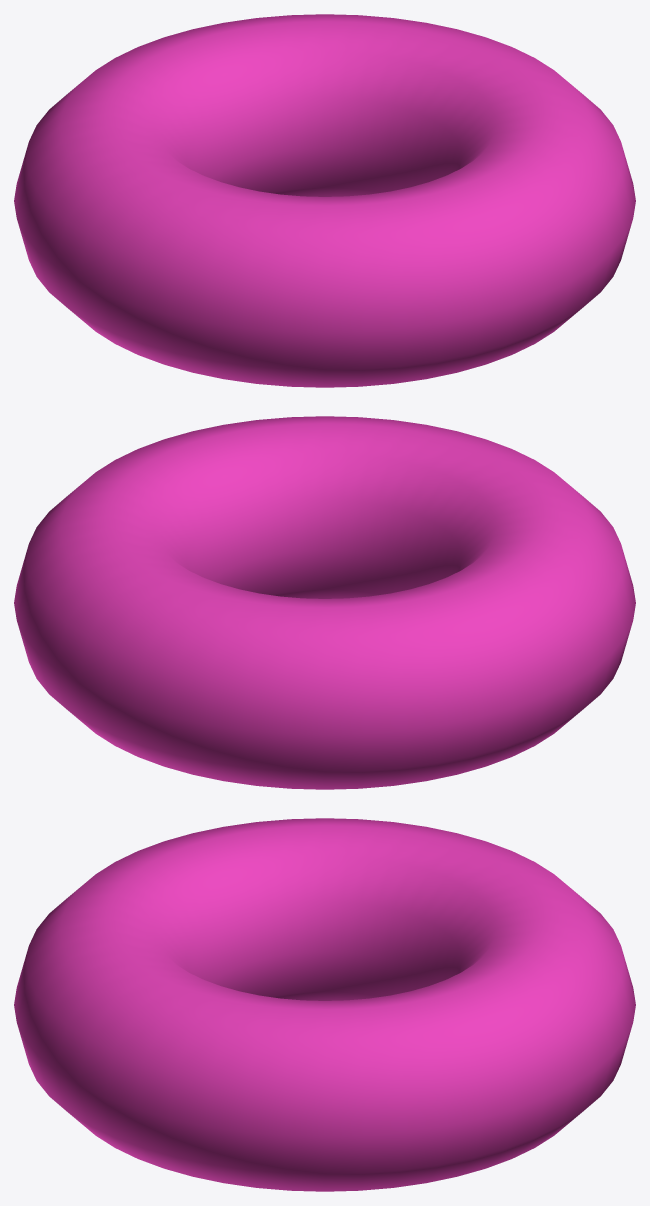
The picture shows the model from 3 angles, top to bottom: view 1: azimuth 30°, elevation 25°; view 2: azimuth 150°, elevation 25°; view 3: azimuth 270°, elevation 25°; orthographic projection.
Parts seen in each view (by area): view 1: Torus.002; view 2: Torus.002; view 3: Torus.002.
Part boxes in pixels (x1,y1,x2,y2): Torus.002: (14, 14, 635, 387); Torus.002: (14, 416, 635, 789); Torus.002: (14, 818, 635, 1191).
Size of the model in its own units: 3.18 by 0.9839 by 3.18.
